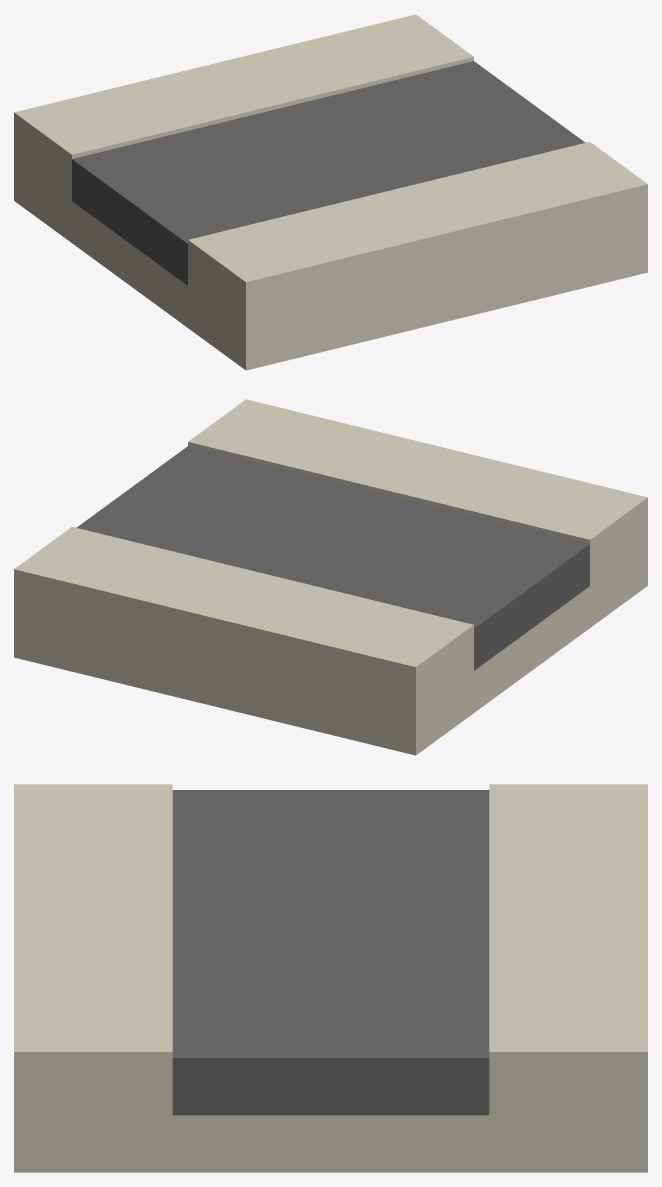
The model's file is roadTile_269.obj.
3 views of the same model, one above another, from view 1: azimuth 30°, elevation 25°; view 2: azimuth 150°, elevation 25°; view 3: azimuth 270°, elevation 25° (orthographic). The views are drawn at different scales.
Visible parts, largest first — view 1: Mesh1_Group1_Model.268; view 2: Mesh1_Group1_Model.268; view 3: Mesh1_Group1_Model.268.
Part boxes in pixels (box(x1,y1,x2,y2)): Mesh1_Group1_Model.268: box(14, 14, 647, 370); Mesh1_Group1_Model.268: box(14, 399, 647, 755); Mesh1_Group1_Model.268: box(14, 784, 647, 1172).
Bounding box in the file's own units: 3 × 0.63 × 3.
